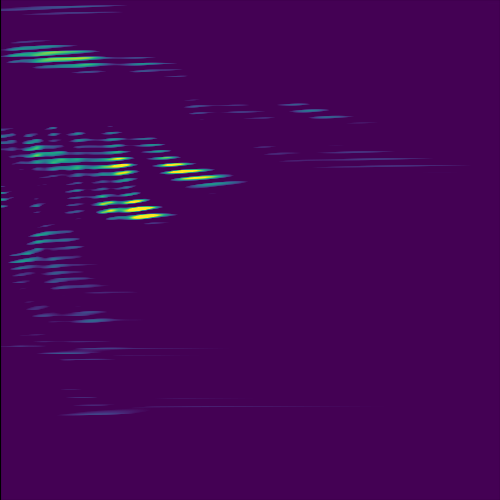semblance: (11, 40, 100, 68), (118, 194, 169, 225), (104, 155, 138, 180)
